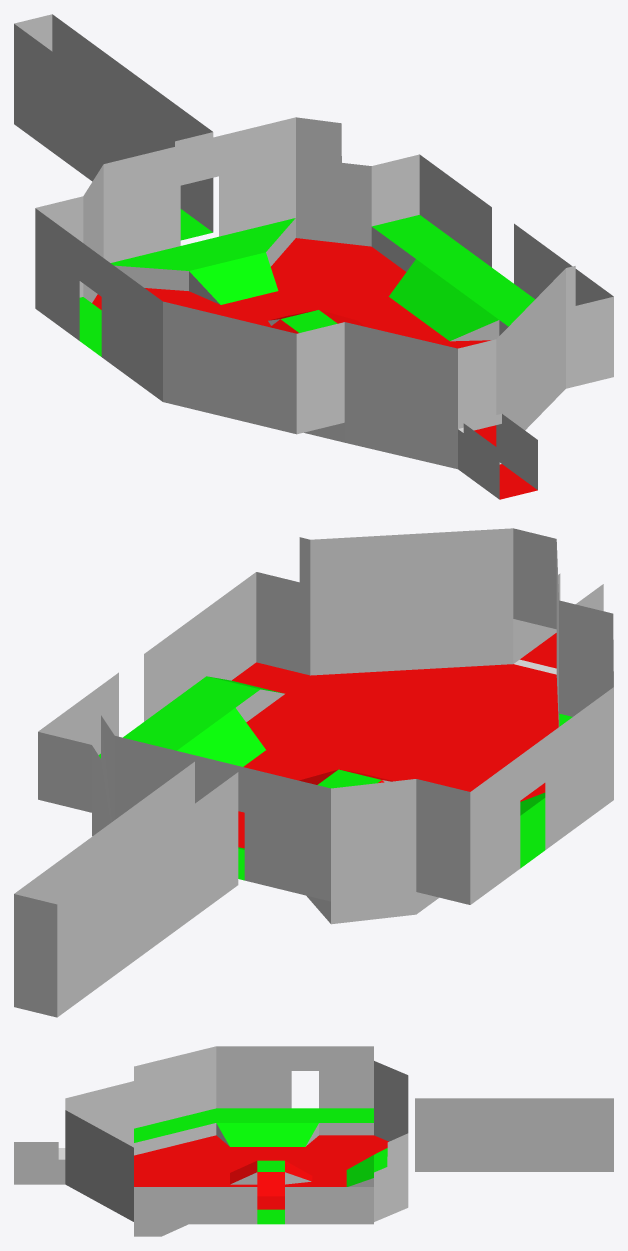
File: Sala1.glb
3 views of the same model, one above another, from view 1: azimuth 30°, elevation 25°; view 2: azimuth 150°, elevation 25°; view 3: azimuth 270°, elevation 25° (orthographic). The views are drawn at different scales.
Visible parts, largest first — view 1: Sala1; view 2: Sala1; view 3: Sala1.
Part boxes in pixels (x1,y1,x2,y2): Sala1: (14, 14, 613, 499); Sala1: (14, 528, 613, 1017); Sala1: (14, 1046, 613, 1236).
Bounding box in the file's own units: 40 × 12 × 87.5.
